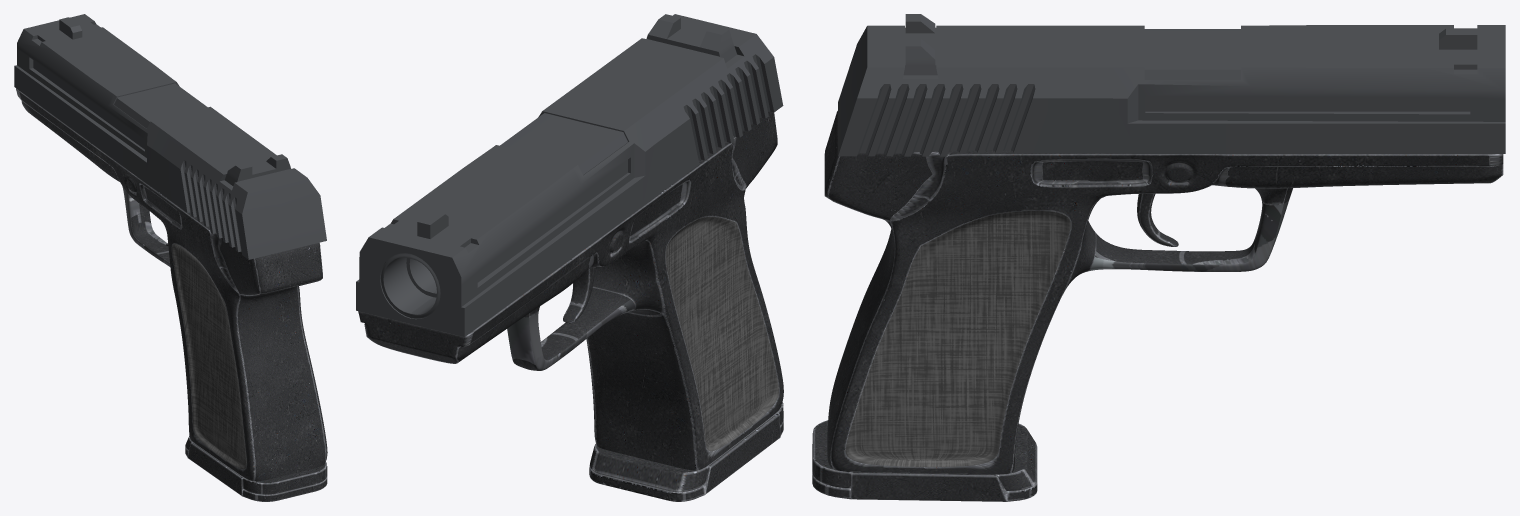
The model's file is w_usp.glb.
The picture shows the model from 3 angles, left to right: view 1: azimuth 30°, elevation 25°; view 2: azimuth 150°, elevation 25°; view 3: azimuth 270°, elevation 25°; orthographic projection. The views are drawn at different scales.
Visible parts, largest first — view 1: body, slide, mag; view 2: slide, body, mag; view 3: body, slide, mag.
Boxes of the visible parts, x1,y1,x2,y2 form: body: (16,88,327,481); slide: (14,14,326,259); mag: (185,435,327,501); slide: (356,14,783,336); body: (358,111,783,470); mag: (589,402,783,501); body: (824,111,1503,474); slide: (838,14,1505,156); mag: (812,420,1037,501).
Size of the model in its own units: 0.0397 by 0.1413 by 0.2.
Materials: 3 (2 with a texture image).
